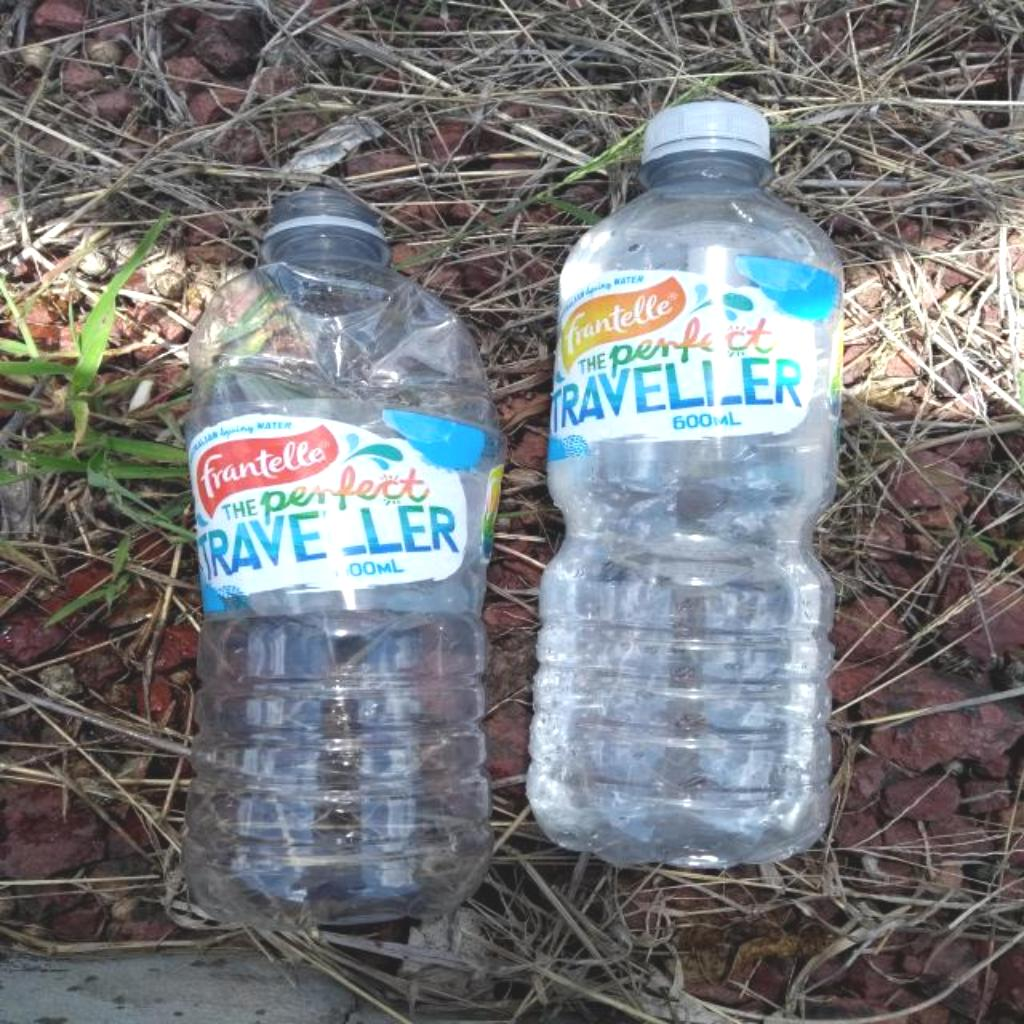garbage: (537, 106, 855, 878), (178, 190, 504, 926)
